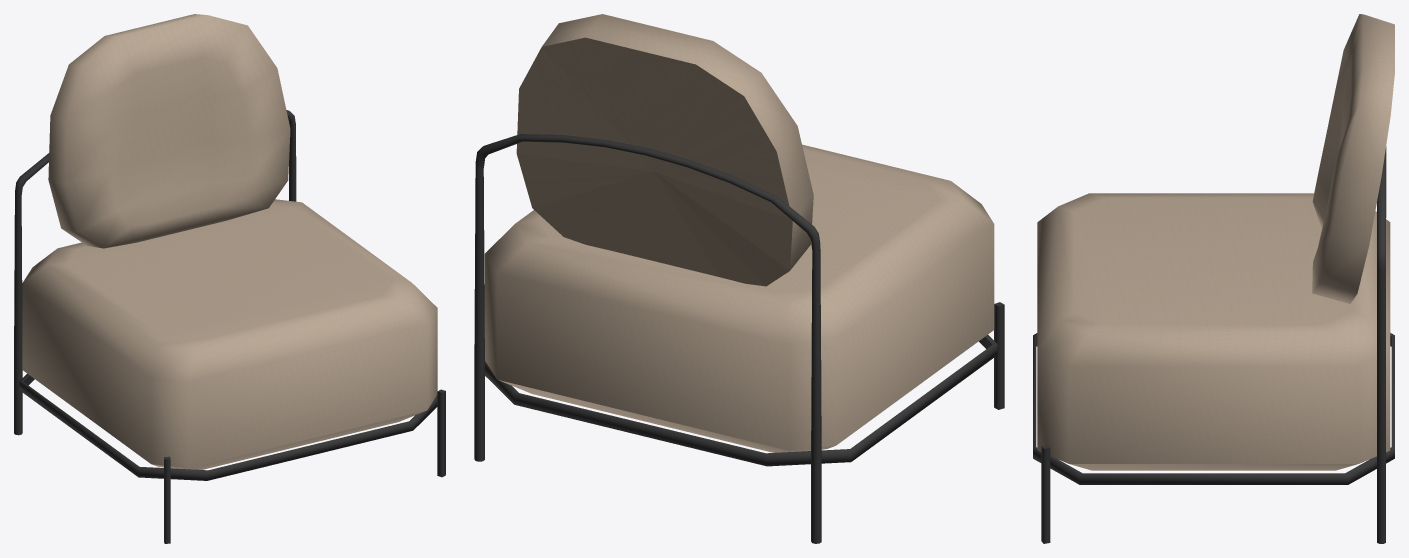
Rendered from LC_3008_chair_D_LOD1.FBX.
3 renders of one model, left to right at view 1: azimuth 30°, elevation 25°; view 2: azimuth 150°, elevation 25°; view 3: azimuth 270°, elevation 25°, orthographic. The views are drawn at different scales.
Visible parts, largest first — view 1: LC_3008_chair_D_LOD1; view 2: LC_3008_chair_D_LOD1; view 3: LC_3008_chair_D_LOD1.
Boxes of the visible parts, x1=… form: LC_3008_chair_D_LOD1: x1=14, y1=14, x2=445, y2=543; LC_3008_chair_D_LOD1: x1=474, y1=14, x2=1004, y2=543; LC_3008_chair_D_LOD1: x1=1033, y1=14, x2=1394, y2=543.
Bounding box in the file's own units: 59.84 × 71.95 × 55.18.
1 material, 1 textured.
